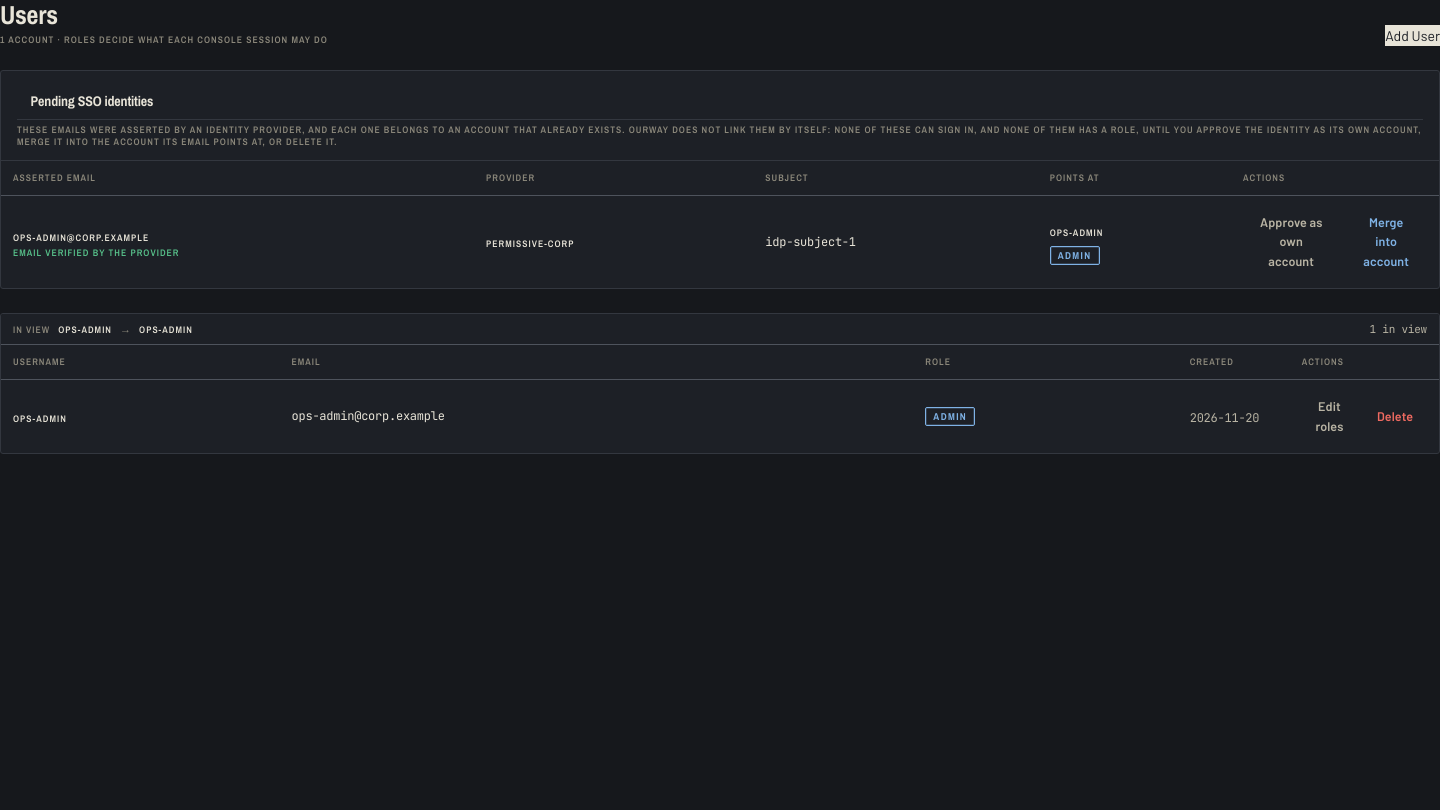
Test: Users — pending SSO identities (2.4-3) › reports the server's reason when a decision is refused
Click the button "Approve as own account".
click(1291, 242)  # box [1243,206,1339,279]
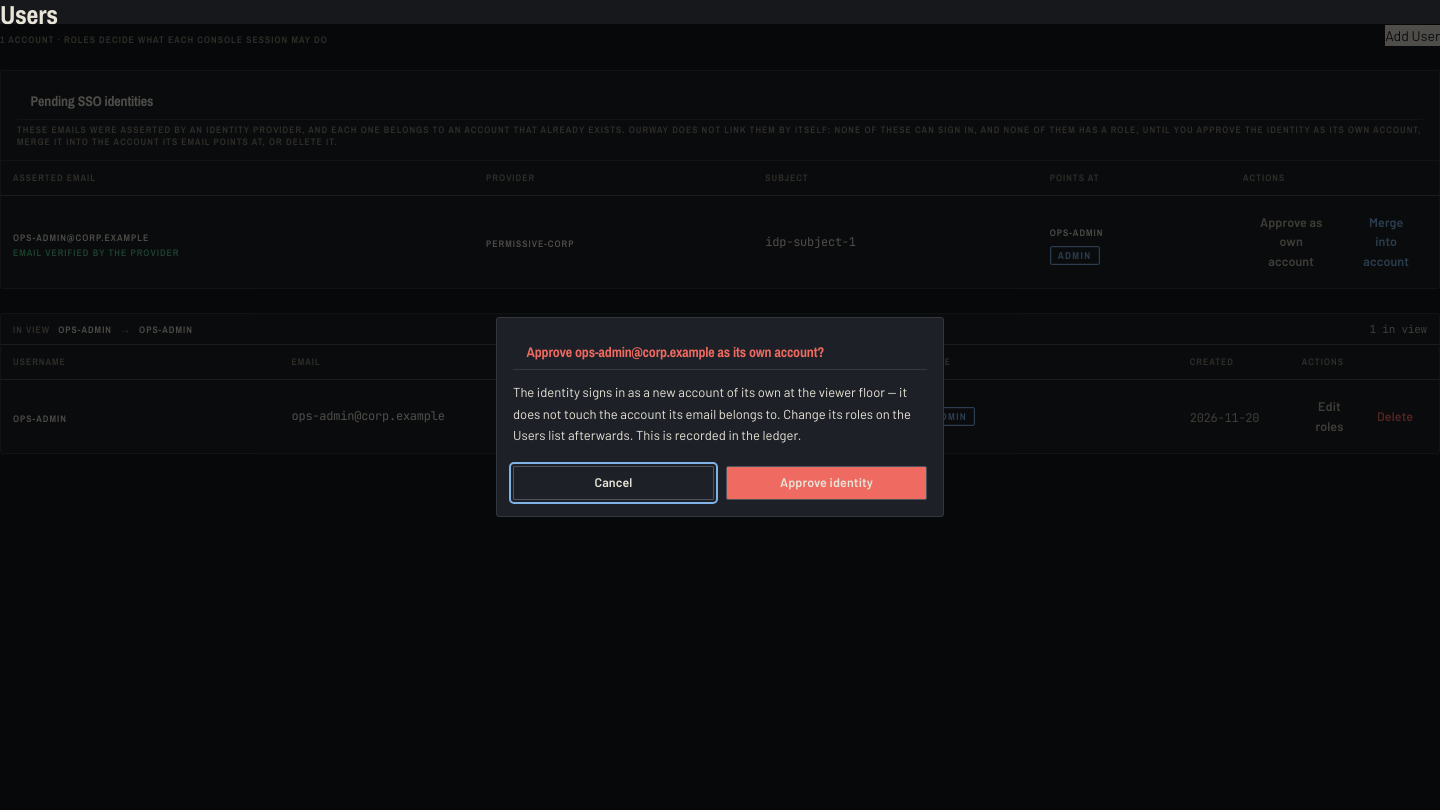
Click the button "Approve identity".
click(826, 483)  # box [726,466,927,500]
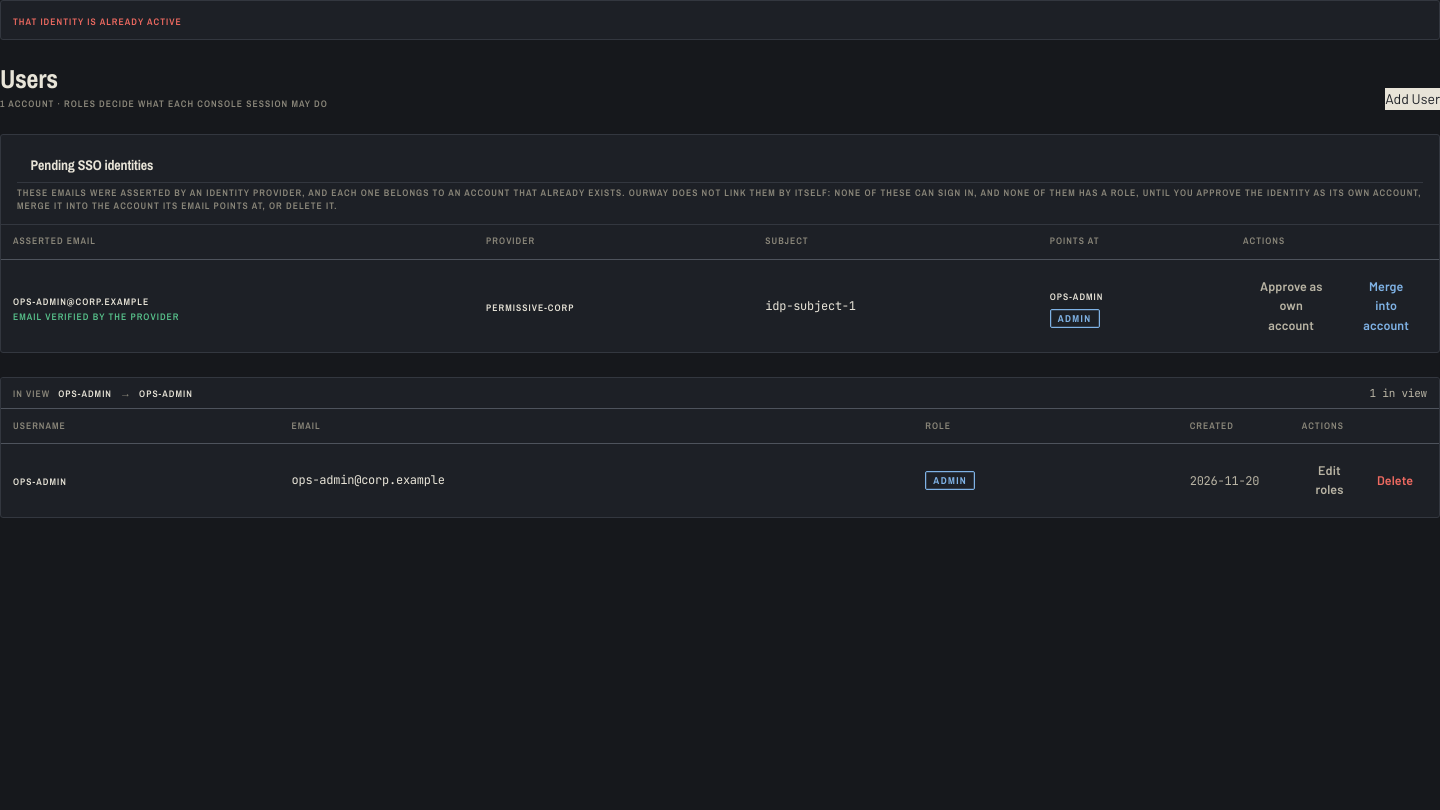
Now the message reads "that identity is already active", box [13,15,182,28]
